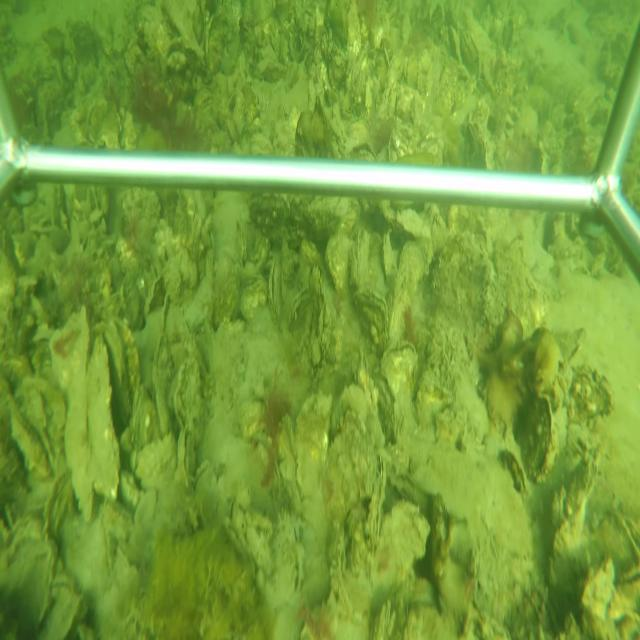Oyster-Closed: (376, 341, 419, 431), (100, 314, 134, 415), (526, 394, 560, 481), (152, 300, 172, 433), (350, 228, 384, 288), (366, 453, 387, 549), (310, 268, 329, 366), (177, 425, 196, 490), (461, 25, 481, 78), (268, 253, 282, 326), (289, 286, 309, 325), (381, 230, 394, 281)
Oyster-Indeterminate: (86, 334, 121, 503), (388, 239, 428, 341), (132, 429, 176, 487), (324, 225, 353, 292)
Oyster-Open: (347, 141, 377, 157)
